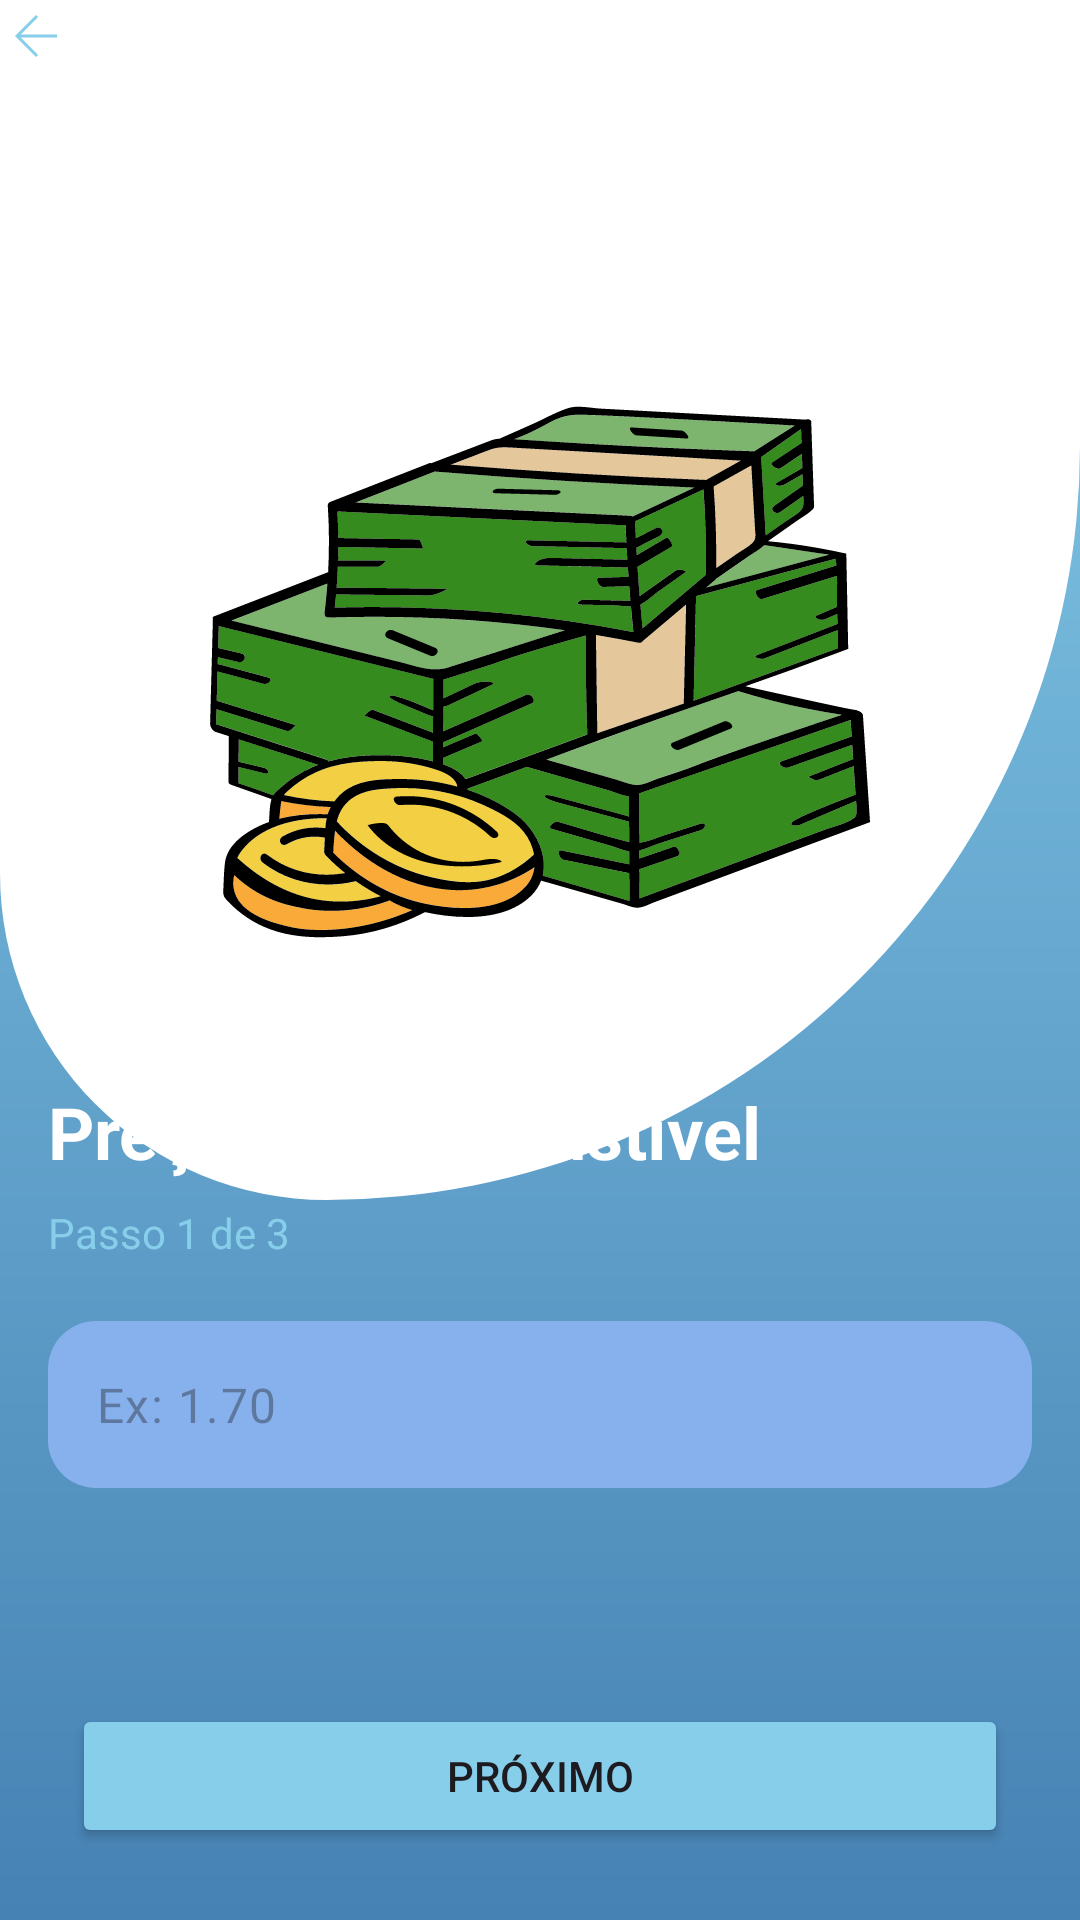

Screen size 1080px×1920px. Icon name, then its box in pixels as (x1, y1, x2, y2):
arrow back: (15, 15, 57, 57)
